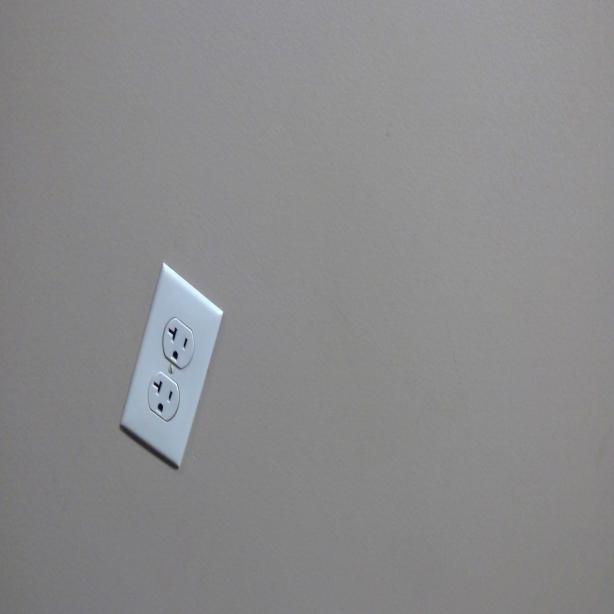typeb: (160, 310, 195, 366), (148, 373, 179, 418)
